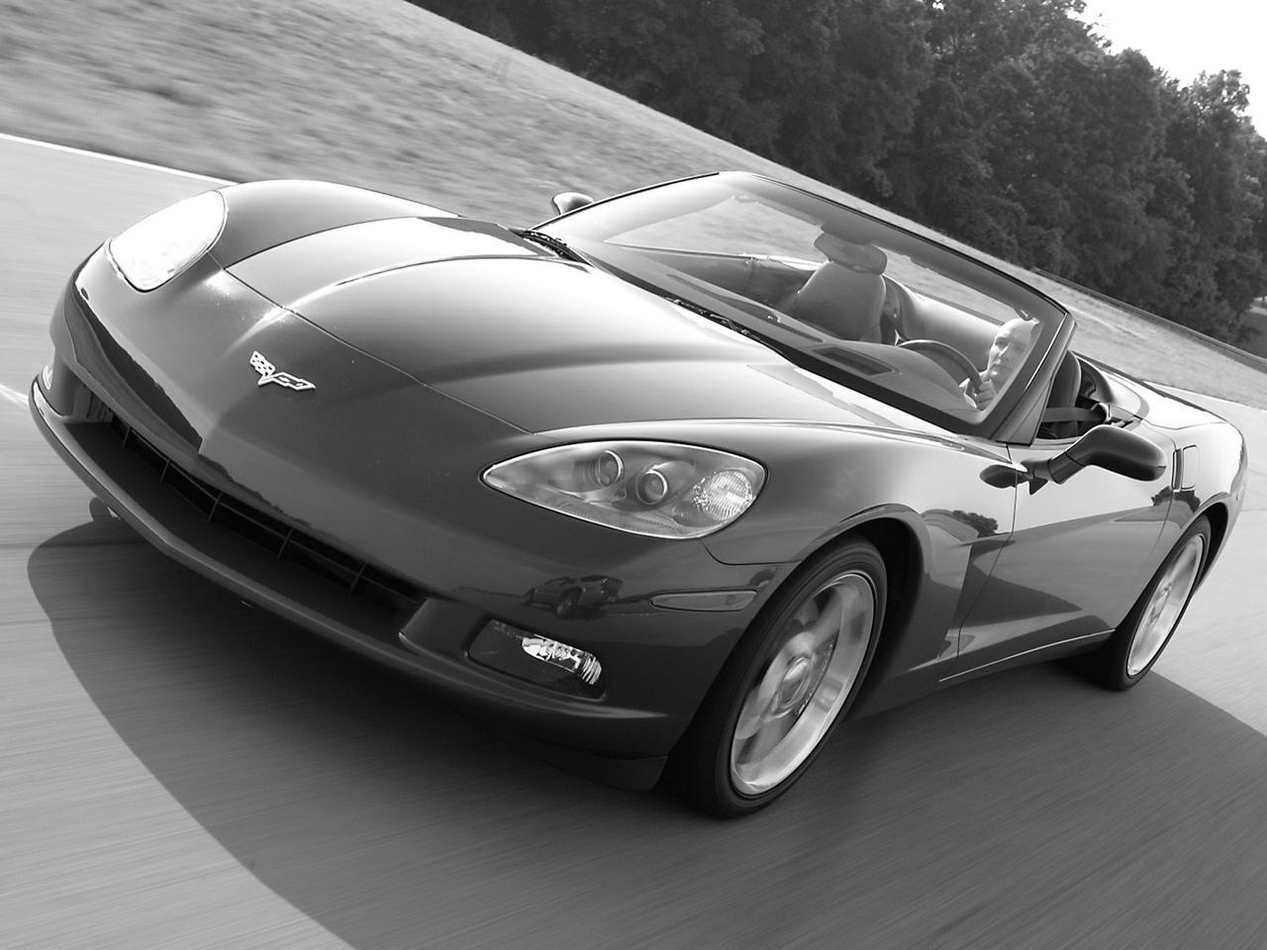car: (20, 143, 1258, 830)
